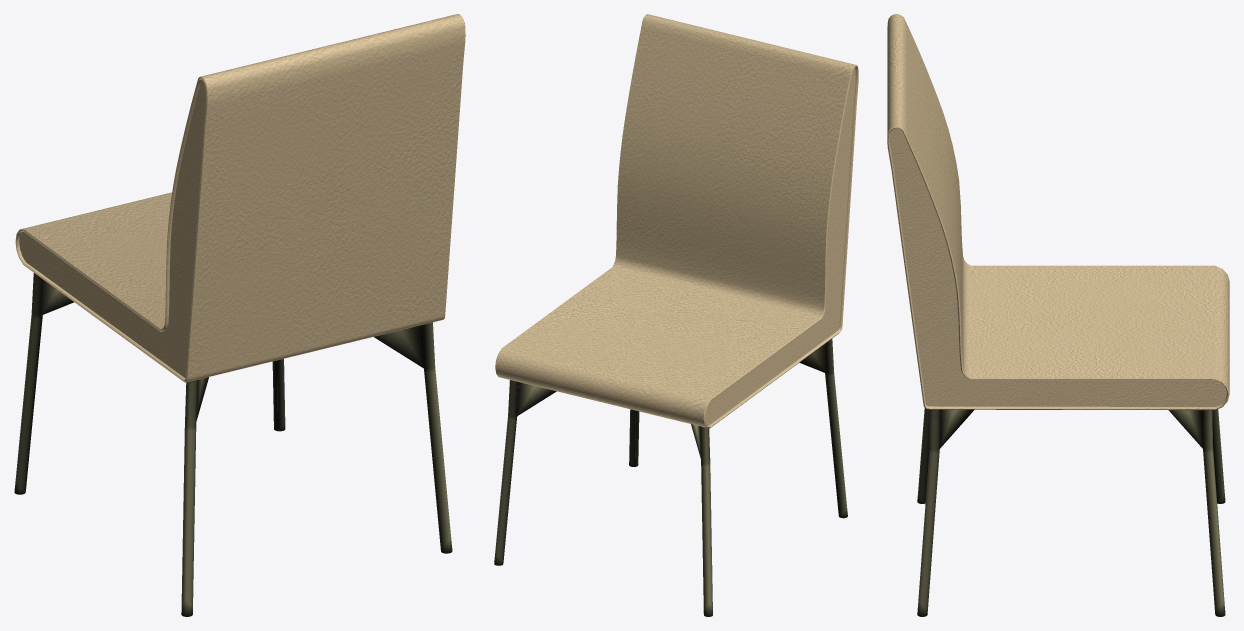
Rendered from chair02.obj.
3 views of the same model, side by side, from view 1: azimuth 30°, elevation 25°; view 2: azimuth 150°, elevation 25°; view 3: azimuth 270°, elevation 25° (orthographic). The views are drawn at different scales.
Visible parts, largest first — view 1: mesh; view 2: mesh; view 3: mesh.
Boxes of the visible parts, x1=… form: mesh: x1=14, y1=14, x2=465, y2=616; mesh: x1=494, y1=14, x2=858, y2=616; mesh: x1=887, y1=14, x2=1229, y2=616.
Size of the model in its own units: 25.65 by 49.78 by 31.65.
1 material, 1 textured.
